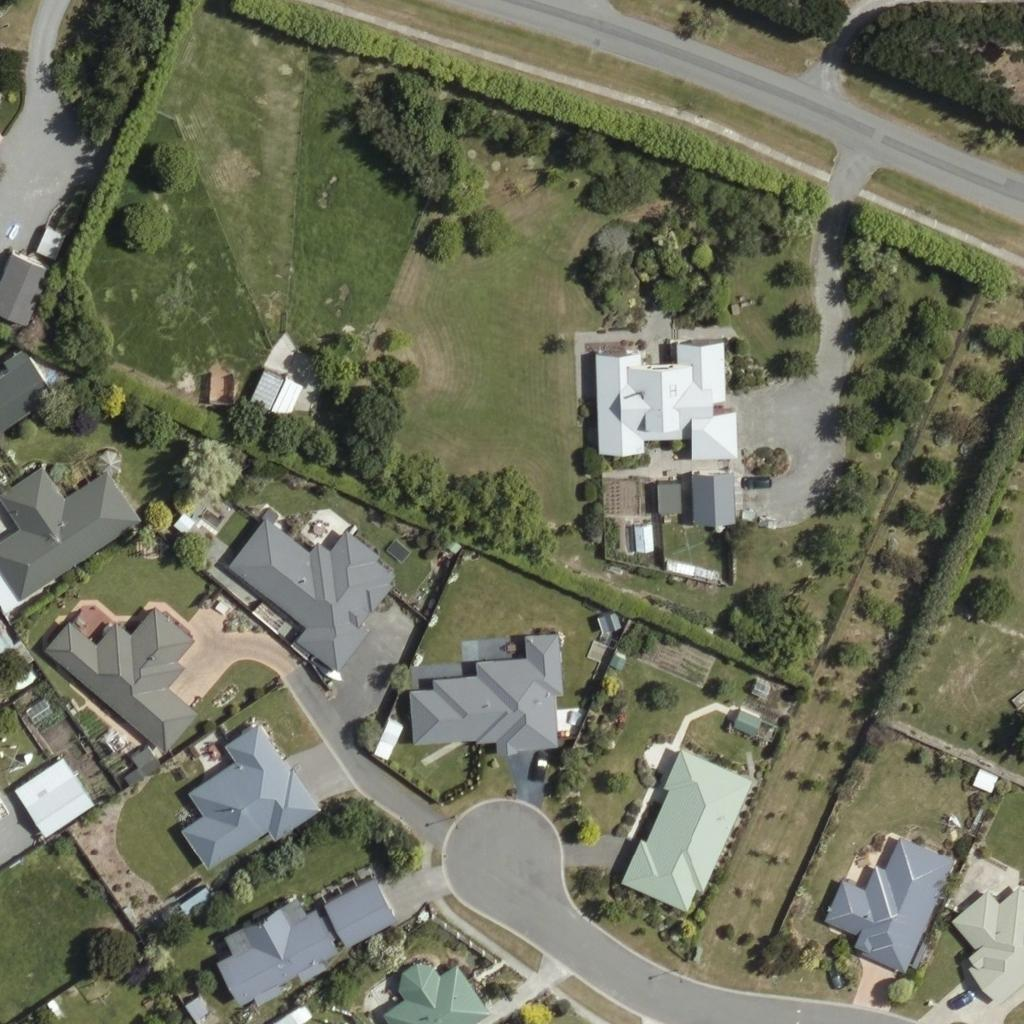car: (740, 465, 774, 499), (523, 750, 557, 784), (817, 960, 851, 994), (942, 984, 976, 1018)
